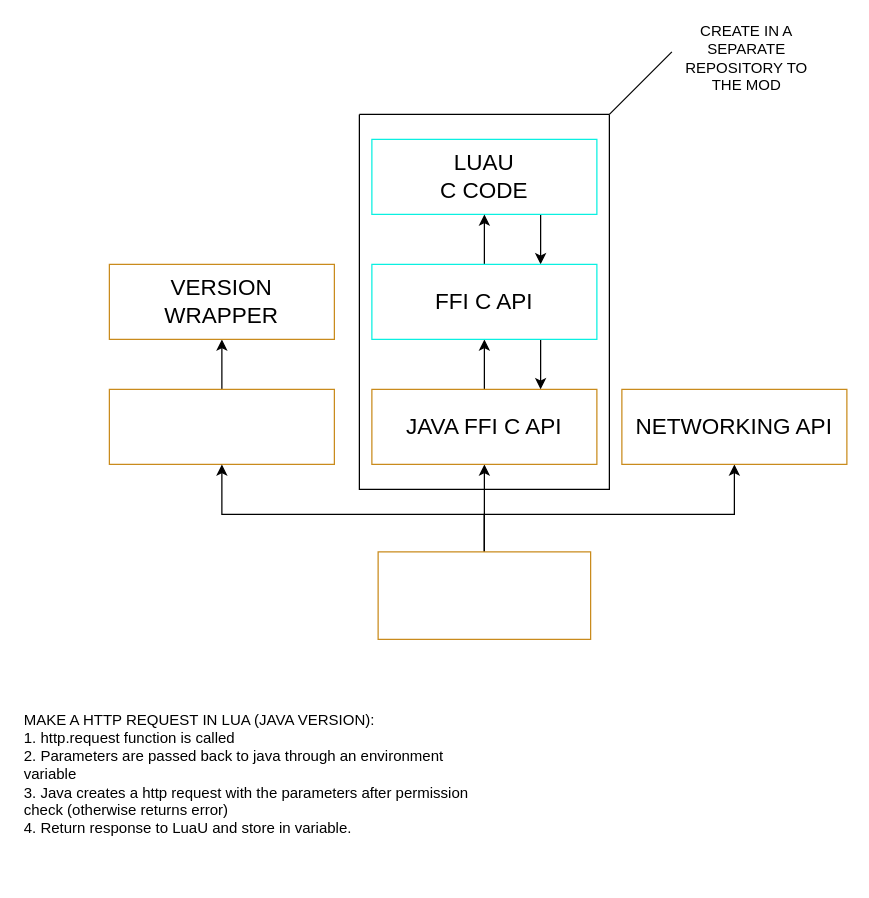
This 869x898 diagram has some shape labels left out. The box of each missing label's shape, as (x1, y1, x2, y2) in pixels:
CCT-LuaU MOD: (377, 551, 591, 639)
MINECRAFT API: (108, 388, 334, 464)
